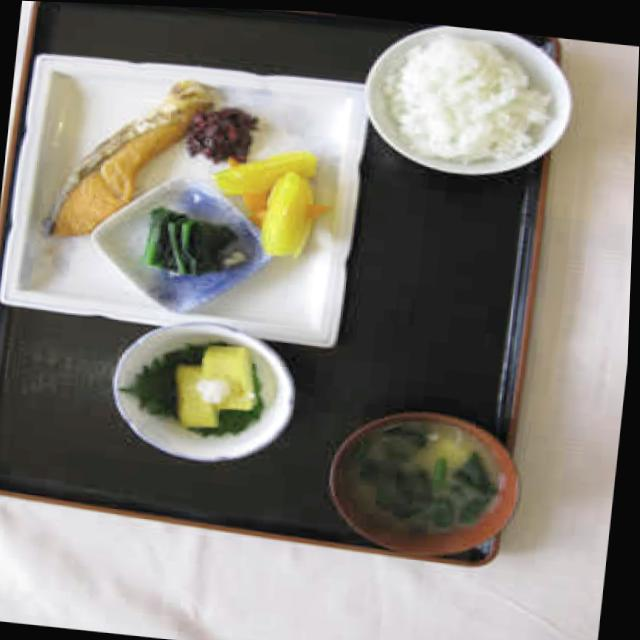熟制海鲜: (37, 57, 232, 260)
